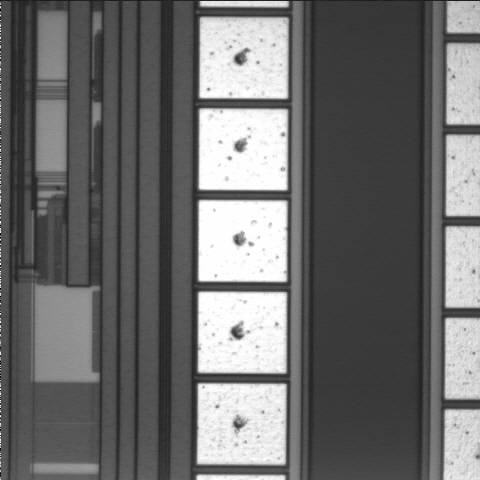pad: (199, 17, 288, 99), (198, 200, 287, 282), (199, 109, 288, 190), (198, 292, 287, 373), (197, 384, 286, 465)
